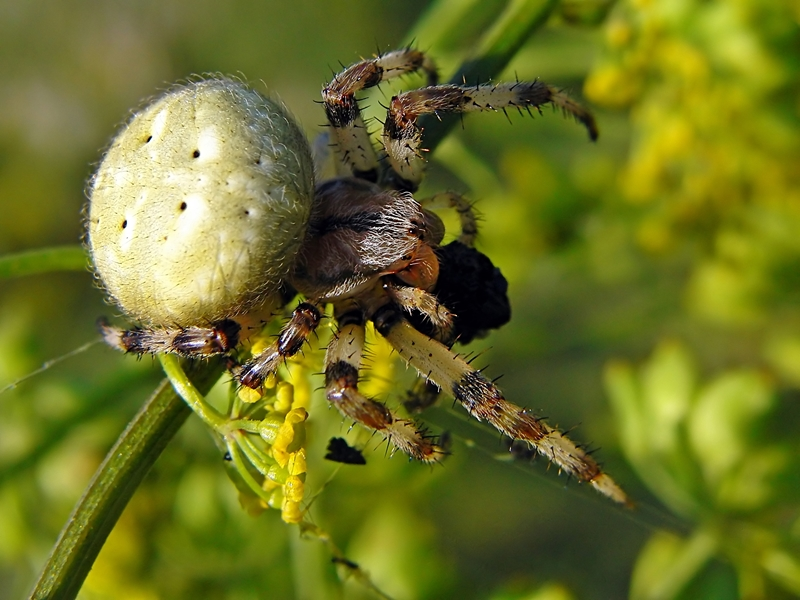spider: (67, 19, 688, 542)
